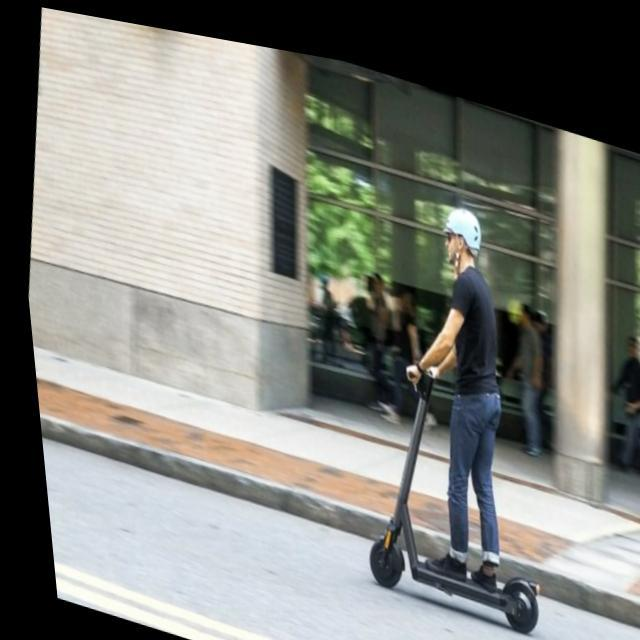Helmet: (438, 199, 488, 278)
